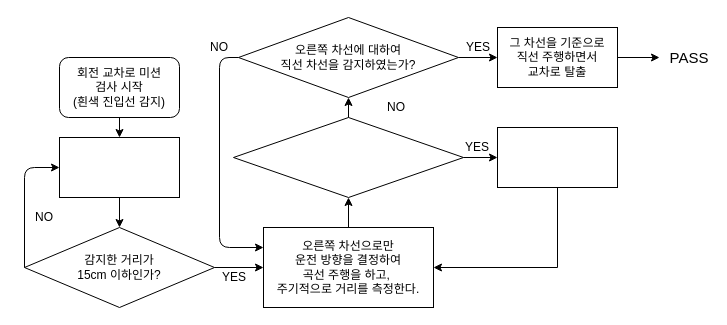
This 727x325 diagram has some shape labels left out. The centre of each missing label's shape, as x and y in pixels:
"거리를 유지하기 위해 속도 조절" belongs at point (557, 157).
"적외선 센서로 전방 물체와의 거리 감지" belongs at point (119, 167).
"전방 거리가 15이상이거나, 5 이하인가?" belongs at point (348, 157).
